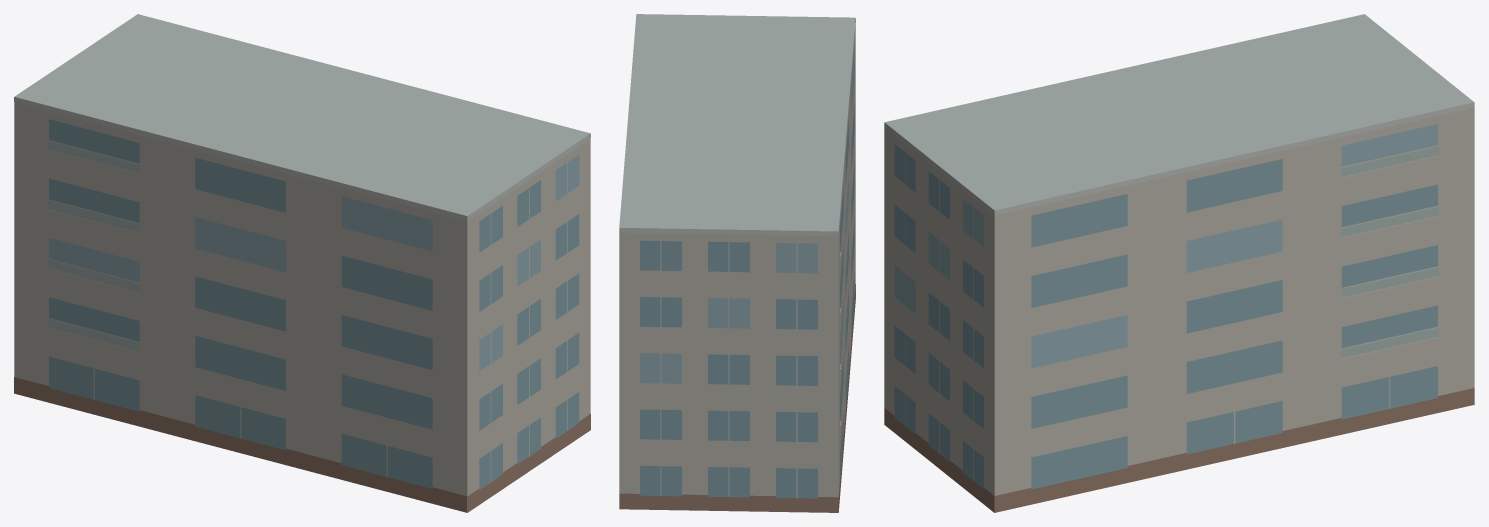
The model's file is survey-upis-32832128.glb.
3 renders of one model, left to right at view 1: azimuth 30°, elevation 25°; view 2: azimuth 150°, elevation 25°; view 3: azimuth 270°, elevation 25°, orthographic. The views are drawn at different scales.
Visible parts, largest first — view 1: survey-upis-32832128.tmp; view 2: survey-upis-32832128.tmp; view 3: survey-upis-32832128.tmp.
Part boxes in pixels (left/top/right/bottom): survey-upis-32832128.tmp: left=14, top=14, right=590, bottom=512; survey-upis-32832128.tmp: left=619, top=14, right=855, bottom=512; survey-upis-32832128.tmp: left=884, top=14, right=1474, bottom=512.
Size of the model in its own units: 19.69 by 14.13 by 25.
